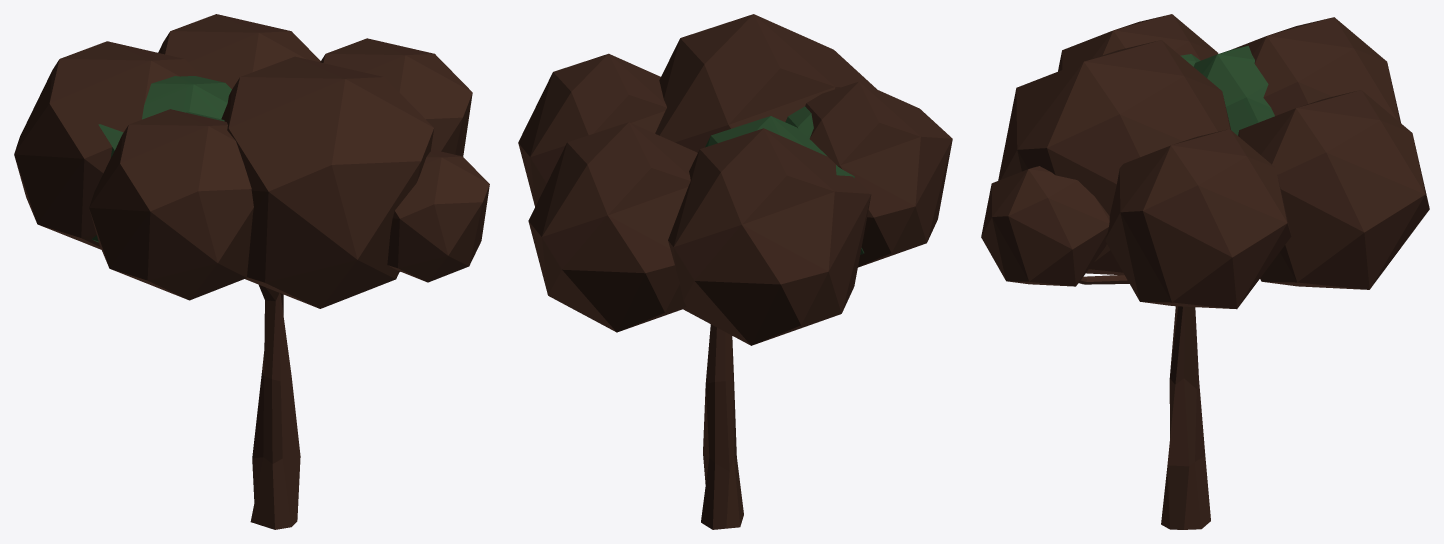
The model's file is Tree_2.obj.
3 renders of one model, left to right at view 1: azimuth 30°, elevation 25°; view 2: azimuth 150°, elevation 25°; view 3: azimuth 270°, elevation 25°, orthographic.
Parts seen in each view (by area): view 1: Icosphere.007_Icosphere.032, Icosphere.000_Icosphere.026; view 2: Icosphere.007_Icosphere.032, Icosphere.000_Icosphere.026, Icosphere.005_Icosphere.030; view 3: Icosphere.007_Icosphere.032, Icosphere.000_Icosphere.026.
Part boxes in pixels (x1,y1,x2,y2): Icosphere.007_Icosphere.032: [14, 14, 489, 529]; Icosphere.000_Icosphere.026: [92, 76, 231, 242]; Icosphere.007_Icosphere.032: [518, 14, 952, 529]; Icosphere.000_Icosphere.026: [705, 116, 854, 177]; Icosphere.005_Icosphere.030: [785, 106, 864, 254]; Icosphere.007_Icosphere.032: [981, 14, 1429, 529]; Icosphere.000_Icosphere.026: [1193, 45, 1274, 135].
Bounding box in the file's own units: 6.51 × 7.84 × 6.78.
